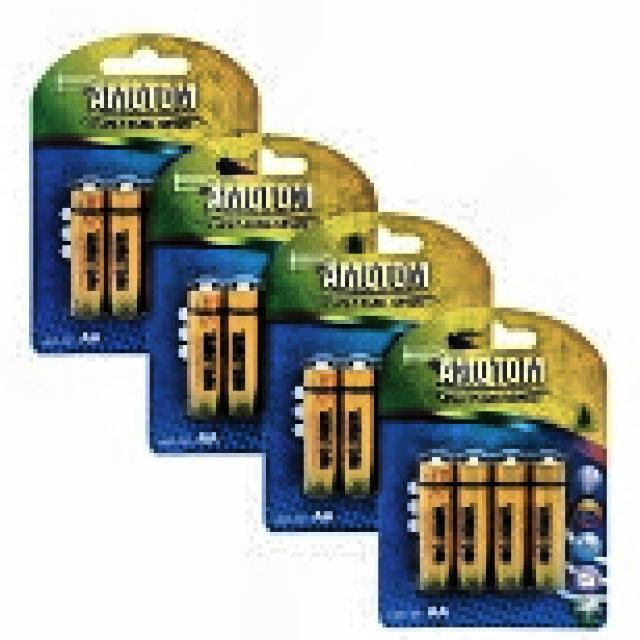battery: (409, 456, 566, 593), (296, 363, 377, 496), (68, 187, 147, 318), (184, 287, 261, 419)
